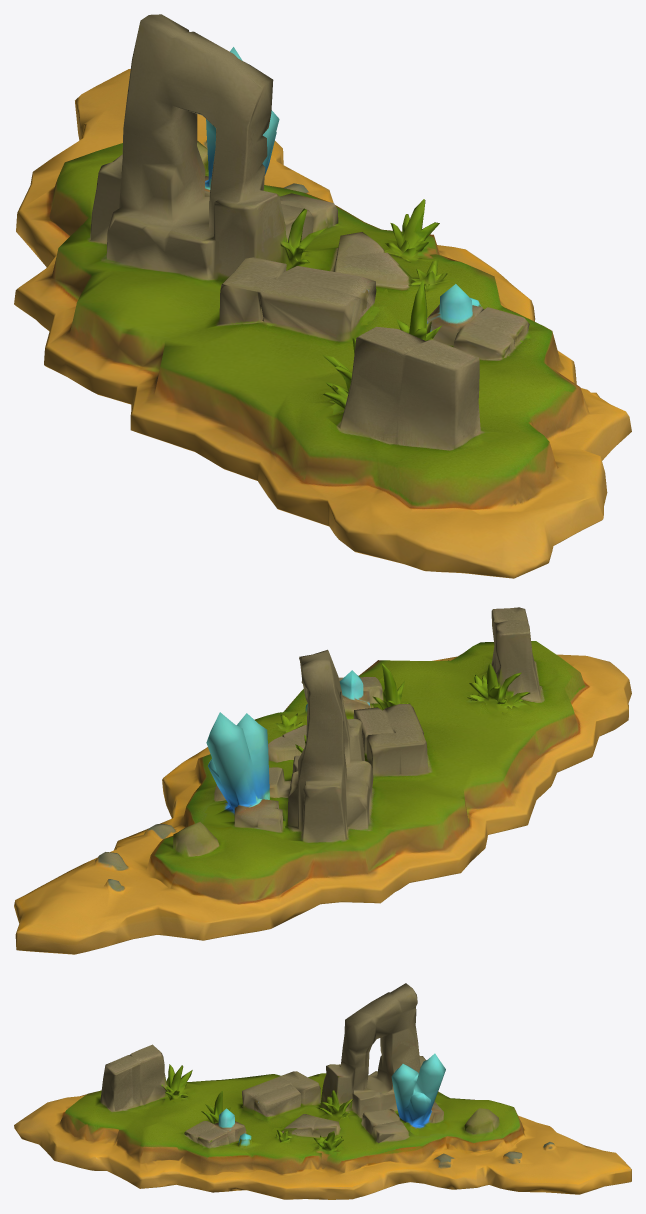
The model's file is island10.glb.
3 views of the same model, one above another, from view 1: azimuth 30°, elevation 25°; view 2: azimuth 150°, elevation 25°; view 3: azimuth 270°, elevation 25° (orthographic). The views are drawn at different scales.
Visible parts, largest first — view 1: tripo_node_e55224ef-642c-4f4e-9156-32e31cc0f48c; view 2: tripo_node_e55224ef-642c-4f4e-9156-32e31cc0f48c; view 3: tripo_node_e55224ef-642c-4f4e-9156-32e31cc0f48c.
Part boxes in pixels (x1,y1,x2,y2): tripo_node_e55224ef-642c-4f4e-9156-32e31cc0f48c: (14,14,631,578); tripo_node_e55224ef-642c-4f4e-9156-32e31cc0f48c: (14,607,631,954); tripo_node_e55224ef-642c-4f4e-9156-32e31cc0f48c: (14,983,631,1199).
Bounding box in the file's own units: 0.3965 × 0.2563 × 0.9789.
Materials: 1 (1 with a texture image).
